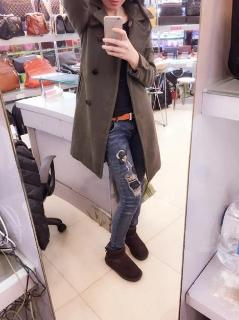long sleeve outwear: (60, 0, 162, 182)
trousers: (99, 108, 152, 251)
